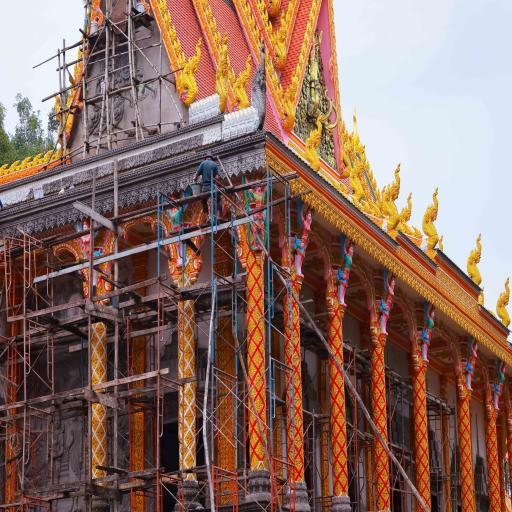hoa: (182, 344, 194, 361), (288, 442, 297, 462), (185, 408, 194, 427), (185, 324, 193, 344), (184, 387, 193, 404), (255, 418, 263, 437), (256, 440, 264, 459), (336, 431, 346, 446), (252, 351, 262, 366), (338, 471, 347, 487), (254, 326, 262, 344), (254, 372, 262, 390), (250, 429, 258, 447), (249, 453, 258, 469), (185, 430, 193, 448), (292, 372, 300, 389), (94, 467, 104, 480), (183, 366, 193, 379), (334, 460, 342, 476), (254, 306, 262, 322), (257, 296, 265, 312), (258, 318, 266, 334), (96, 322, 104, 338), (100, 353, 108, 369), (96, 364, 104, 380), (96, 446, 104, 462), (184, 306, 192, 322), (330, 402, 339, 416), (251, 263, 260, 277), (289, 466, 296, 484), (179, 354, 186, 372), (252, 285, 260, 300), (247, 318, 255, 333), (288, 424, 296, 439), (95, 343, 103, 358), (96, 425, 104, 440), (190, 355, 196, 375), (292, 350, 299, 367), (295, 433, 302, 450), (180, 399, 187, 416), (338, 452, 346, 466), (248, 340, 255, 356), (286, 361, 293, 377), (294, 413, 301, 429), (298, 468, 305, 484), (96, 406, 104, 420), (189, 335, 196, 351), (180, 422, 187, 438), (181, 441, 188, 457), (292, 328, 298, 346), (375, 440, 382, 455), (335, 372, 342, 387), (342, 442, 349, 457), (255, 396, 262, 411), (291, 287, 298, 302), (287, 404, 294, 419), (91, 352, 98, 367), (91, 433, 98, 448), (179, 316, 186, 331), (190, 316, 197, 331), (380, 451, 388, 464), (332, 442, 340, 455), (247, 297, 255, 310), (287, 382, 293, 399), (373, 386, 380, 400), (337, 393, 344, 407), (248, 363, 255, 377), (291, 309, 298, 323), (101, 334, 108, 348), (189, 299, 196, 313), (190, 380, 197, 394), (420, 454, 428, 466), (376, 460, 384, 472), (260, 340, 266, 356), (250, 408, 256, 424), (285, 298, 291, 314), (287, 342, 293, 358), (296, 339, 302, 355), (294, 392, 300, 408), (296, 454, 302, 470), (92, 414, 98, 430), (187, 452, 193, 468), (381, 468, 388, 481), (377, 477, 384, 490), (337, 413, 344, 426), (332, 422, 339, 435), (247, 253, 254, 266), (247, 275, 254, 288), (260, 362, 266, 377), (92, 458, 98, 473), (192, 421, 197, 439), (193, 442, 198, 460), (418, 405, 426, 416), (416, 447, 424, 458), (330, 385, 338, 396), (192, 398, 197, 415), (374, 406, 381, 418), (382, 486, 388, 500), (334, 314, 340, 328), (334, 335, 341, 347), (344, 462, 350, 476), (335, 480, 341, 494), (258, 274, 264, 288), (250, 384, 256, 398), (260, 410, 267, 422), (290, 265, 296, 279), (92, 334, 99, 346), (420, 438, 428, 448), (343, 421, 348, 437), (300, 444, 305, 460), (90, 376, 98, 386), (180, 382, 188, 392), (330, 365, 336, 378), (262, 457, 268, 470), (180, 336, 186, 349), (371, 352, 378, 363), (493, 474, 499, 486), (462, 496, 468, 508), (419, 388, 425, 400), (414, 396, 420, 408), (376, 341, 382, 353), (379, 414, 385, 426), (376, 422, 382, 434), (102, 416, 108, 428), (102, 438, 108, 450), (102, 458, 108, 470), (261, 386, 266, 400), (286, 320, 291, 334), (463, 429, 469, 440), (466, 490, 472, 501), (376, 361, 382, 372), (180, 298, 186, 309), (419, 371, 424, 384), (458, 408, 464, 418), (460, 438, 466, 448), (465, 444, 470, 456), (464, 460, 470, 470), (466, 474, 471, 486), (462, 482, 467, 494), (414, 381, 420, 391), (415, 414, 421, 424), (416, 430, 422, 440), (417, 464, 423, 474), (423, 471, 428, 483), (418, 480, 424, 490), (423, 414, 429, 424), (379, 397, 384, 409), (378, 498, 383, 510), (329, 328, 335, 338), (335, 354, 341, 364), (341, 384, 346, 396), (494, 504, 501, 512), (298, 362, 302, 376), (299, 385, 303, 399), (300, 405, 304, 419), (300, 425, 304, 439), (421, 422, 426, 433), (424, 488, 429, 499), (378, 378, 383, 389), (345, 483, 350, 494), (462, 417, 468, 426), (458, 423, 464, 432), (330, 345, 336, 354), (490, 418, 495, 428), (490, 482, 495, 492), (494, 490, 499, 500), (461, 467, 466, 477), (373, 371, 378, 381), (101, 374, 106, 384), (93, 400, 98, 410), (490, 497, 496, 505), (426, 446, 430, 458), (423, 396, 427, 408), (383, 406, 387, 418), (382, 432, 386, 444), (340, 346, 344, 358), (297, 321, 301, 333), (491, 432, 496, 441), (492, 446, 497, 455), (471, 497, 475, 508), (387, 499, 391, 510), (339, 327, 343, 338), (385, 422, 388, 436), (488, 439, 492, 449), (487, 426, 492, 434), (489, 454, 493, 464), (492, 462, 497, 470), (490, 468, 494, 478), (463, 402, 468, 410), (461, 453, 465, 463), (426, 466, 431, 474), (427, 480, 431, 489), (383, 389, 387, 398), (340, 491, 346, 497), (467, 504, 471, 512), (423, 381, 426, 390), (388, 479, 390, 492), (382, 351, 384, 363), (382, 372, 385, 380), (426, 430, 428, 441), (496, 456, 499, 462)
ran: (382, 165, 404, 227), (180, 54, 202, 106), (305, 116, 324, 168), (423, 188, 440, 246), (216, 46, 230, 112), (281, 84, 299, 130), (235, 58, 251, 109), (469, 234, 483, 283), (498, 277, 512, 324), (350, 162, 365, 200), (401, 191, 413, 235), (339, 142, 353, 179)
than: (244, 173, 275, 252), (161, 192, 191, 268), (72, 219, 104, 287), (294, 207, 316, 277), (335, 240, 357, 308), (419, 304, 438, 362), (378, 273, 395, 337), (464, 338, 481, 393), (491, 362, 508, 409)
